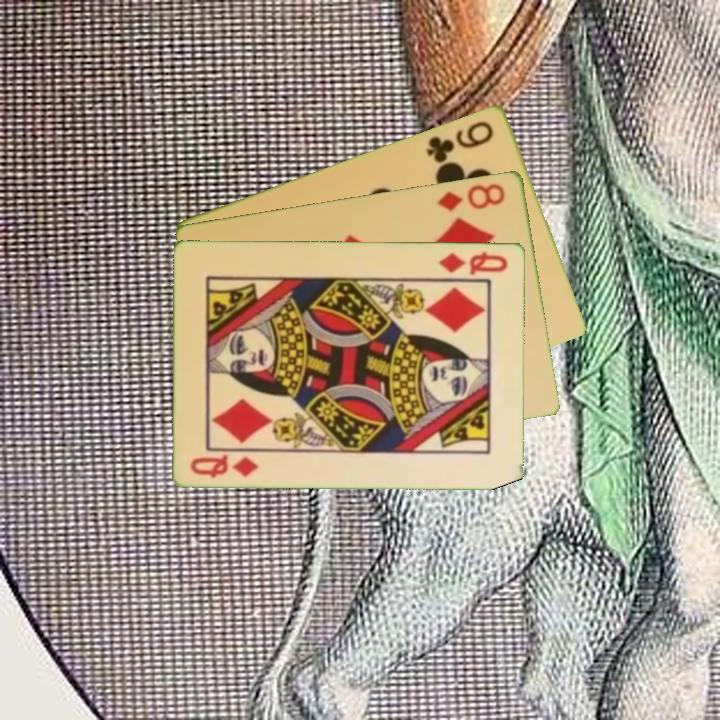8d: (434, 179, 508, 214)
9c: (423, 117, 497, 165)
Qd: (436, 248, 511, 278), (187, 450, 261, 480)
